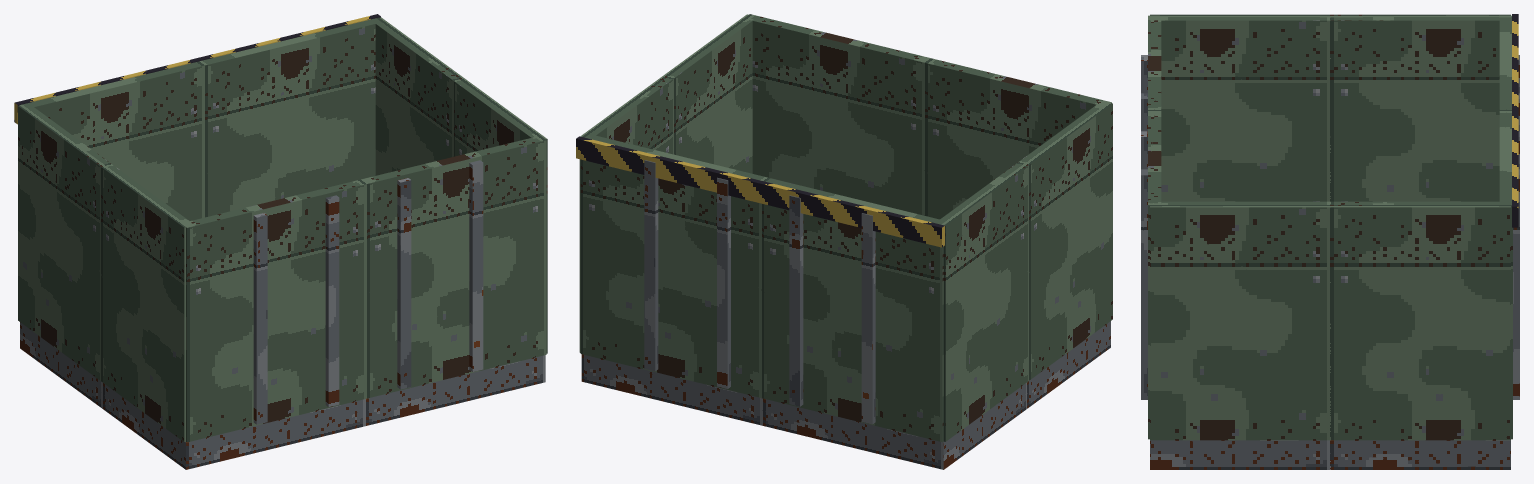
File: machinery__storage_crate.glb
3 renders of one model, left to right at view 1: azimuth 30°, elevation 25°; view 2: azimuth 150°, elevation 25°; view 3: azimuth 270°, elevation 25°, orthographic. The views are drawn at different scales.
Parts seen in each view (by area): view 1: _MeshInstance3D_68, _MeshInstance3D_67, _MeshInstance3D_69; view 2: _MeshInstance3D_68, _MeshInstance3D_67, _MeshInstance3D_69; view 3: _MeshInstance3D_68, _MeshInstance3D_67, _MeshInstance3D_69.
Part boxes in pixels (<box>): _MeshInstance3D_68: <box>18,17,547,442</box>; _MeshInstance3D_67: <box>20,160,545,469</box>; _MeshInstance3D_69: <box>14,14,380,124</box>; _MeshInstance3D_68: <box>579,14,1112,442</box>; _MeshInstance3D_67: <box>581,160,1110,469</box>; _MeshInstance3D_69: <box>576,136,944,247</box>; _MeshInstance3D_68: <box>1148,14,1512,440</box>; _MeshInstance3D_67: <box>1141,55,1519,469</box>; _MeshInstance3D_69: <box>1512,14,1518,227</box>.
Bounding box in the file's own units: 2.02 × 1.29 × 1.68.
3 materials, 3 textured.
